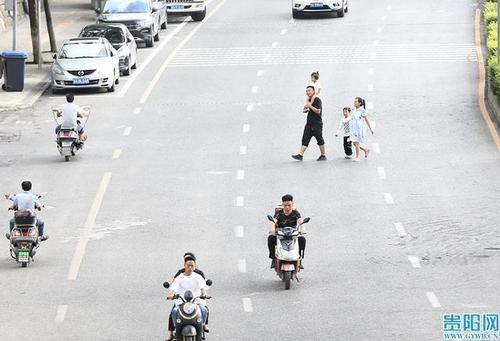car: (47, 37, 121, 94), (77, 23, 139, 76), (95, 0, 166, 46), (290, 0, 350, 19), (164, 0, 208, 22)
motorcycle: (270, 213, 307, 293), (51, 106, 91, 162), (6, 206, 42, 267), (169, 293, 209, 341)
person: (162, 254, 213, 339), (266, 196, 310, 265), (289, 85, 327, 162), (8, 180, 48, 239), (347, 97, 376, 162), (169, 252, 208, 286), (58, 93, 84, 137), (336, 106, 354, 159), (306, 71, 323, 97)
